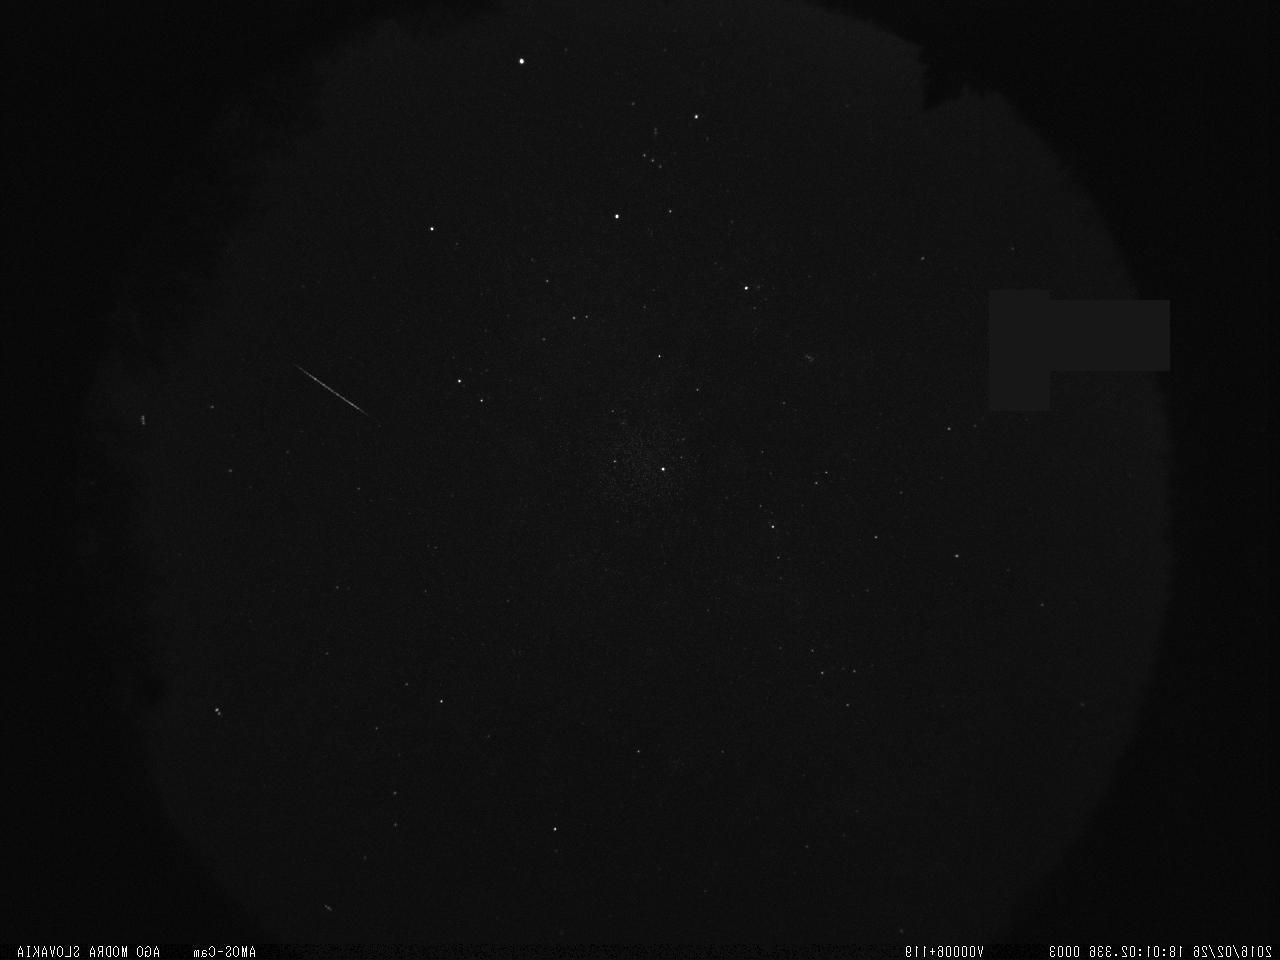meteor: (257, 359, 398, 431)
